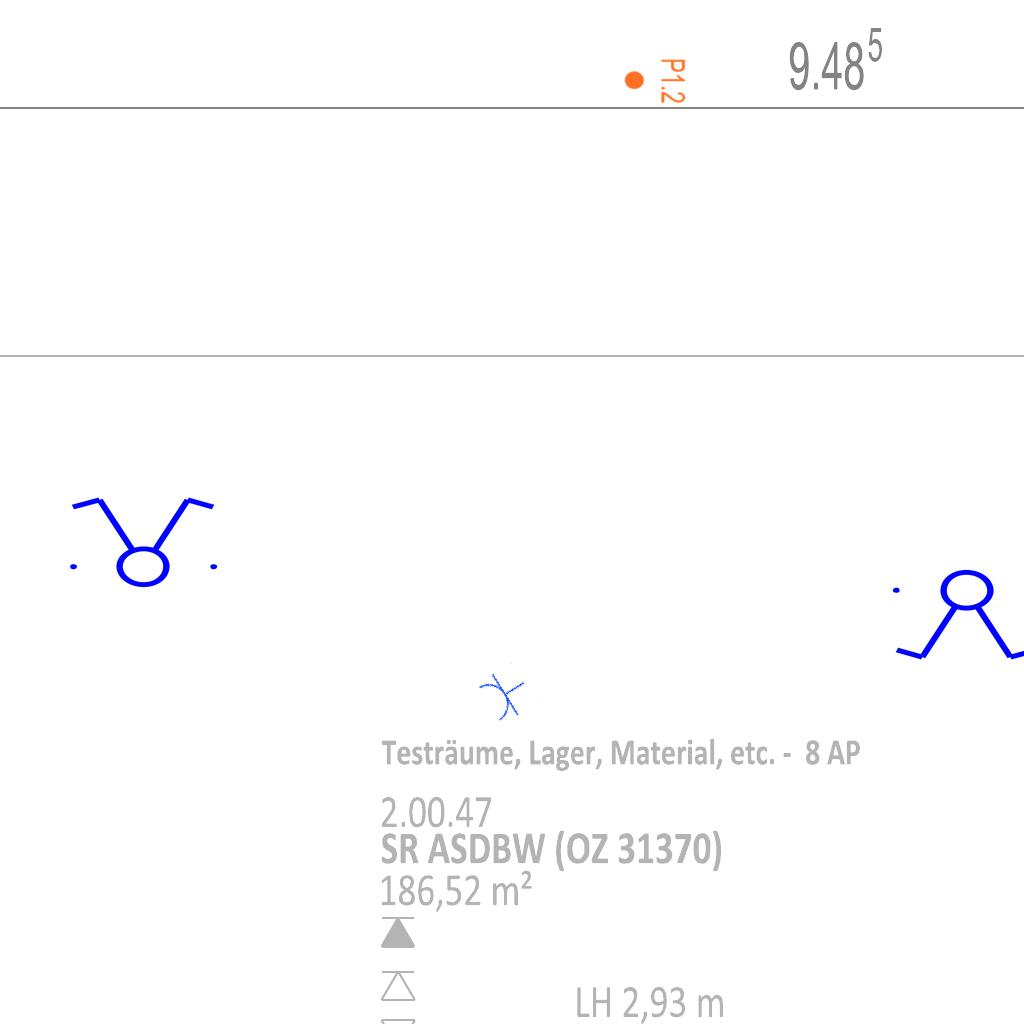Downlight_LED_Einbauleuchten_Flur: (623, 58, 687, 104)
Schukosteckdose_einfach: (474, 660, 538, 727)
Serienschalter: (58, 493, 226, 589), (884, 568, 1024, 664)
